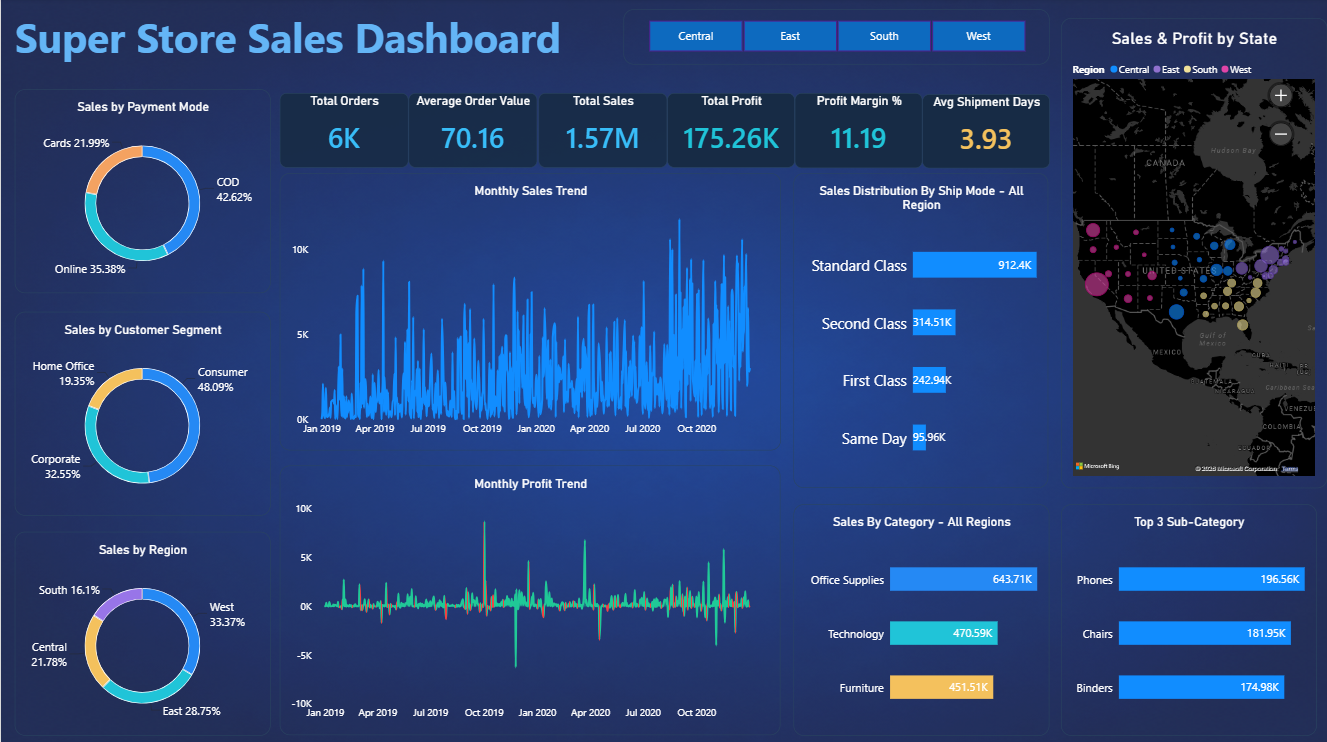

This screenshot's page, from the dashboard's own definition file:
{"tool":"powerbi","page":{"name":"Dashboard Overview","canvas":[1920,1080],"ordinal":0},"visuals":[{"type":"clusteredBarChart","fields":{"Category":["SuperStore_Sales_Dataset.Category"],"Y":["Sum(SuperStore_Sales_Dataset.Sales)"]},"box":[1147.3,732.9,370,335],"z":0},{"type":"clusteredBarChart","title":"Top 3 Sub-Category ","fields":{"Category":["SuperStore_Sales_Dataset.Sub-Category"],"Y":["Sum(SuperStore_Sales_Dataset.Sales)"]},"box":[1534.6,732.9,370,335],"z":1000},{"type":"clusteredBarChart","fields":{"Category":["SuperStore_Sales_Dataset.Ship Mode"],"Y":["Sum(SuperStore_Sales_Dataset.Sales)"]},"box":[1147.3,253.4,369.2,456],"z":2000},{"type":"stackedAreaChart","title":"Monthly Sales Trend","fields":{"Category":["SuperStore_Sales_Dataset.Order Date"],"Y":["Sum(SuperStore_Sales_Dataset.Sales)"]},"box":[403.6,253.4,725.7,401.7],"z":3000},{"type":"stackedAreaChart","title":"Monthly Profit Trend","fields":{"Category":["SuperStore_Sales_Dataset.Order Date.Variation.Date Hierarchy.Month"],"Y":["Sum(SuperStore_Sales_Dataset.Profit)"]},"box":[403.6,676.8,725,390],"z":4000},{"type":"map","title":" Sales & Profit by State","fields":{"Category":["SuperStore_Sales_Dataset.State"],"Series":["SuperStore_Sales_Dataset.Region"],"Size":["Sum(SuperStore_Sales_Dataset.Sales)"]},"box":[1534.6,29,385.5,680.4],"z":5000},{"type":"donutChart","title":"Sales by Payment Mode","fields":{"Category":["SuperStore_Sales_Dataset.Payment Mode"],"Y":["Sum(SuperStore_Sales_Dataset.Sales)"]},"box":[19.9,132.1,370,295],"z":6000},{"type":"donutChart","title":"Sales by Customer Segment","fields":{"Category":["SuperStore_Sales_Dataset.Segment"],"Y":["Sum(SuperStore_Sales_Dataset.Sales)"]},"box":[19.9,454.2,370,295],"z":7000},{"type":"donutChart","title":"Sales by Region","fields":{"Category":["SuperStore_Sales_Dataset.Region"],"Y":["Sum(SuperStore_Sales_Dataset.Sales)"]},"box":[19.9,772.7,370,295],"z":8000},{"type":"slicer","fields":{"Values":["SuperStore_Sales_Dataset.Region"]},"box":[901.2,16.3,617.1,79.6],"z":9000},{"type":"textbox","box":[19.9,16.3,861.4,79.6],"z":10000},{"type":"cardVisual","title":"Total Orders","fields":{"Data":["SuperStore_Sales_Dataset.Orders"]},"box":[403.6,137.5,186,108],"z":11000},{"type":"cardVisual","title":"Total Sales","fields":{"Data":["Sum(SuperStore_Sales_Dataset.Sales)"]},"box":[778.2,137.5,186,108],"z":12000},{"type":"cardVisual","title":"Profit Margin %","fields":{"Data":["SuperStore_Sales_Dataset.Profit Margin"]},"box":[1149.1,137.5,185,108.6],"z":13000},{"type":"cardVisual","title":"Avg Shipment Days","fields":{"Data":["Avg(SuperStore_Sales_Dataset.Shipment days)"]},"box":[1333.7,139.3,185,107],"z":14000},{"type":"cardVisual","title":"Average Order Value","fields":{"Data":["SuperStore_Sales_Dataset.Average Order Value"]},"box":[589.9,137.5,186,108],"z":15000},{"type":"cardVisual","title":"Total Profit","fields":{"Data":["Sum(SuperStore_Sales_Dataset.Profit)"]},"box":[964.5,137.5,185,108],"z":16000}]}

Visuals, with their boxes in screenshot pixels (x1, y1, x2, y2), scaled from the page's 1920x1080 canvas onto the 1327x742 screenshot:
clusteredBarChart - SuperStore_Sales_Dataset.Category x Sum(SuperStore_Sales_Dataset.Sales): <bbox>793, 504, 1049, 734</bbox>
"Top 3 Sub-Category " clusteredBarChart: <bbox>1061, 504, 1316, 734</bbox>
clusteredBarChart - SuperStore_Sales_Dataset.Ship Mode x Sum(SuperStore_Sales_Dataset.Sales): <bbox>793, 174, 1048, 487</bbox>
"Monthly Sales Trend" stackedAreaChart: <bbox>279, 174, 781, 450</bbox>
"Monthly Profit Trend" stackedAreaChart: <bbox>279, 465, 780, 733</bbox>
" Sales & Profit by State" map: <bbox>1061, 20, 1326, 487</bbox>
"Sales by Payment Mode" donutChart: <bbox>14, 91, 269, 293</bbox>
"Sales by Customer Segment" donutChart: <bbox>14, 312, 269, 515</bbox>
"Sales by Region" donutChart: <bbox>14, 531, 269, 734</bbox>
slicer - SuperStore_Sales_Dataset.Region: <bbox>623, 11, 1049, 66</bbox>
textbox: <bbox>14, 11, 609, 66</bbox>
"Total Orders" cardVisual: <bbox>279, 94, 407, 169</bbox>
"Total Sales" cardVisual: <bbox>538, 94, 666, 169</bbox>
"Profit Margin %" cardVisual: <bbox>794, 94, 922, 169</bbox>
"Avg Shipment Days" cardVisual: <bbox>922, 96, 1050, 169</bbox>
"Average Order Value" cardVisual: <bbox>408, 94, 536, 169</bbox>
"Total Profit" cardVisual: <bbox>667, 94, 794, 169</bbox>
